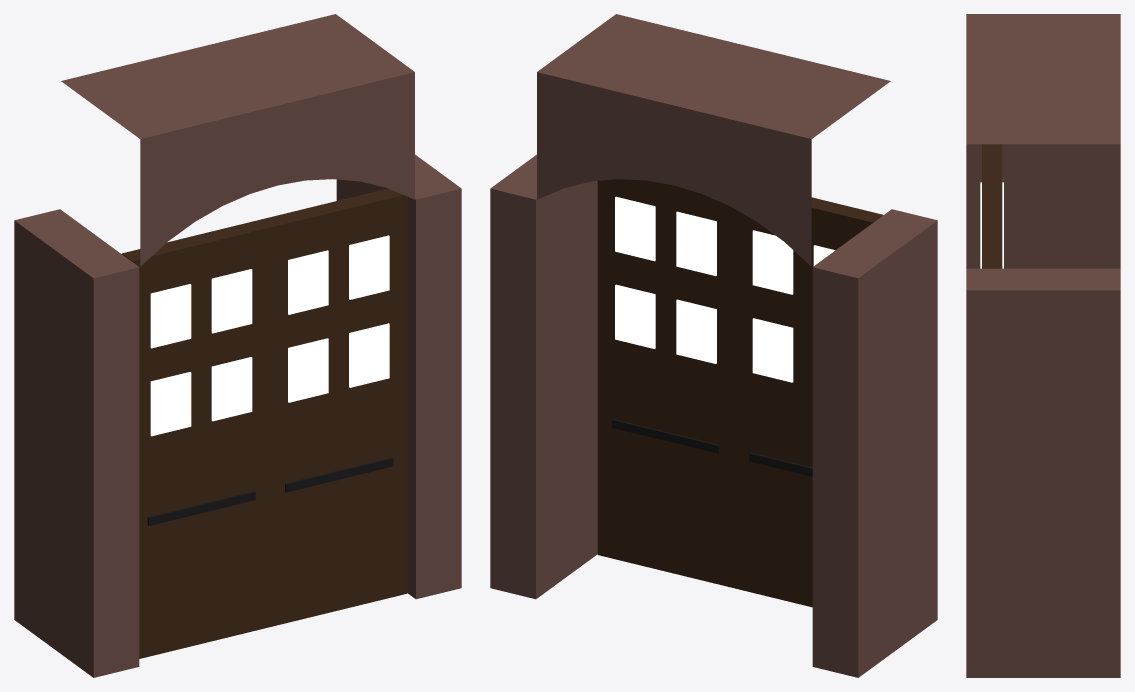
Rendered from ato2_porta_final.glb.
3 views of the same model, side by side, from view 1: azimuth 30°, elevation 25°; view 2: azimuth 150°, elevation 25°; view 3: azimuth 270°, elevation 25° (orthographic). The views are drawn at different scales.
Visible parts, largest first — view 1: _MeshInstance3D_5633_13, _MeshInstance3D_5632_14, _MeshInstance3D_5649_0, _MeshInstance3D_5640_6, _MeshInstance3D_5636_12, _MeshInstance3D_5645_9, _MeshInstance3D_5644_10, _MeshInstance3D_5643_11, _MeshInstance3D_5646_8, _MeshInstance3D_5654_3, _MeshInstance3D_5653_4, _MeshInstance3D_5652_5 (+3 smaller); view 2: _MeshInstance3D_5633_13, _MeshInstance3D_5632_14, _MeshInstance3D_5636_12, _MeshInstance3D_5649_0, _MeshInstance3D_5640_6, _MeshInstance3D_5644_10, _MeshInstance3D_5655_2, _MeshInstance3D_5654_3, _MeshInstance3D_5653_4, _MeshInstance3D_5652_5, _MeshInstance3D_5646_8, _MeshInstance3D_5656_1; view 3: _MeshInstance3D_5636_12, _MeshInstance3D_5632_14, _MeshInstance3D_5633_13, _MeshInstance3D_5649_0, _MeshInstance3D_5640_6.
Boxes of the visible parts, left/top/right/bottom form: _MeshInstance3D_5633_13: left=14, top=209, right=139, bottom=677; _MeshInstance3D_5632_14: left=61, top=14, right=414, bottom=266; _MeshInstance3D_5649_0: left=259, top=188, right=407, bottom=626; _MeshInstance3D_5640_6: left=121, top=220, right=269, bottom=658; _MeshInstance3D_5636_12: left=336, top=154, right=461, bottom=599; _MeshInstance3D_5645_9: left=150, top=284, right=191, bottom=348; _MeshInstance3D_5644_10: left=211, top=357, right=252, bottom=421; _MeshInstance3D_5643_11: left=150, top=372, right=191, bottom=436; _MeshInstance3D_5646_8: left=211, top=269, right=252, bottom=333; _MeshInstance3D_5654_3: left=288, top=250, right=328, bottom=314; _MeshInstance3D_5653_4: left=349, top=323, right=389, bottom=387; _MeshInstance3D_5652_5: left=288, top=338, right=328, bottom=402; _MeshInstance3D_5633_13: left=812, top=209, right=937, bottom=677; _MeshInstance3D_5632_14: left=537, top=14, right=890, bottom=266; _MeshInstance3D_5636_12: left=490, top=154, right=597, bottom=599; _MeshInstance3D_5649_0: left=597, top=179, right=734, bottom=588; _MeshInstance3D_5640_6: left=735, top=197, right=883, bottom=607; _MeshInstance3D_5644_10: left=752, top=318, right=793, bottom=382; _MeshInstance3D_5655_2: left=615, top=196, right=655, bottom=261; _MeshInstance3D_5654_3: left=676, top=211, right=716, bottom=275; _MeshInstance3D_5653_4: left=615, top=284, right=655, bottom=348; _MeshInstance3D_5652_5: left=676, top=299, right=716, bottom=363; _MeshInstance3D_5646_8: left=752, top=230, right=793, bottom=294; _MeshInstance3D_5656_1: left=611, top=419, right=719, bottom=453; _MeshInstance3D_5636_12: left=966, top=268, right=1120, bottom=677; _MeshInstance3D_5632_14: left=966, top=14, right=1120, bottom=144; _MeshInstance3D_5633_13: left=966, top=144, right=1120, bottom=268; _MeshInstance3D_5649_0: left=982, top=203, right=1002, bottom=268; _MeshInstance3D_5640_6: left=982, top=144, right=1002, bottom=202.
Size of the model in its own units: 2.41 by 3.3 by 0.9.
